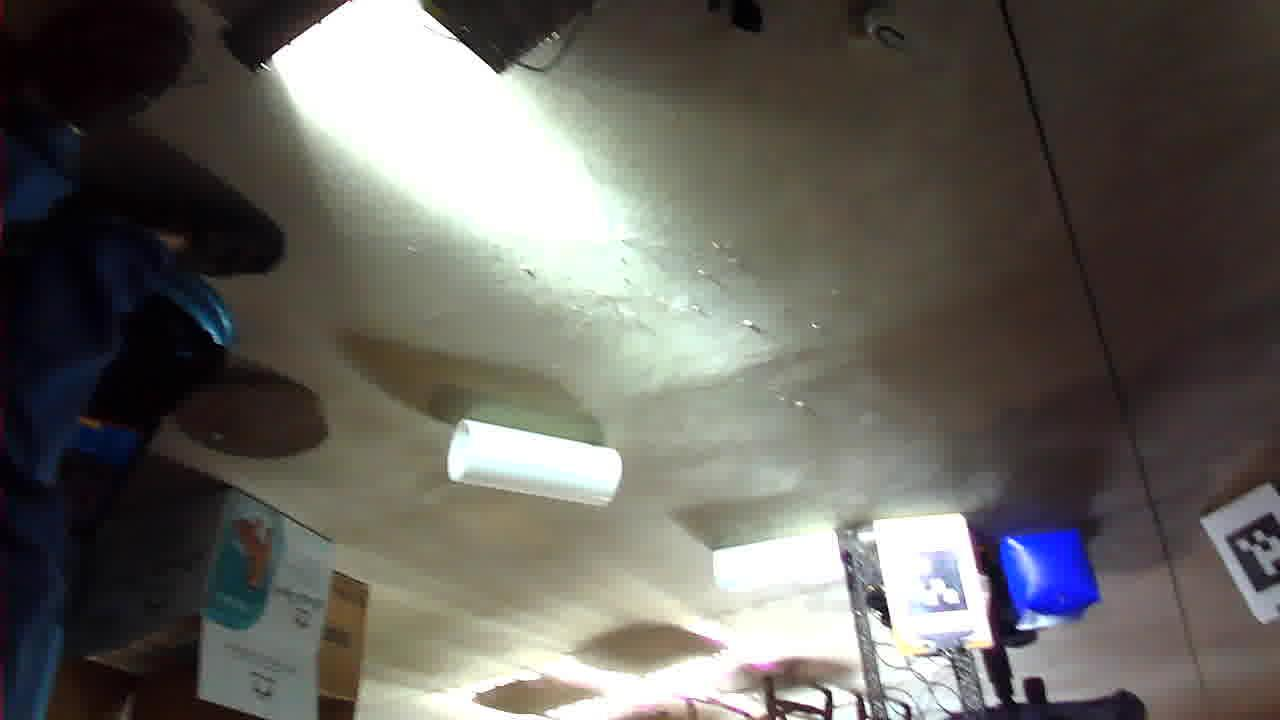coral: (659, 214, 830, 301), (441, 127, 566, 185)
